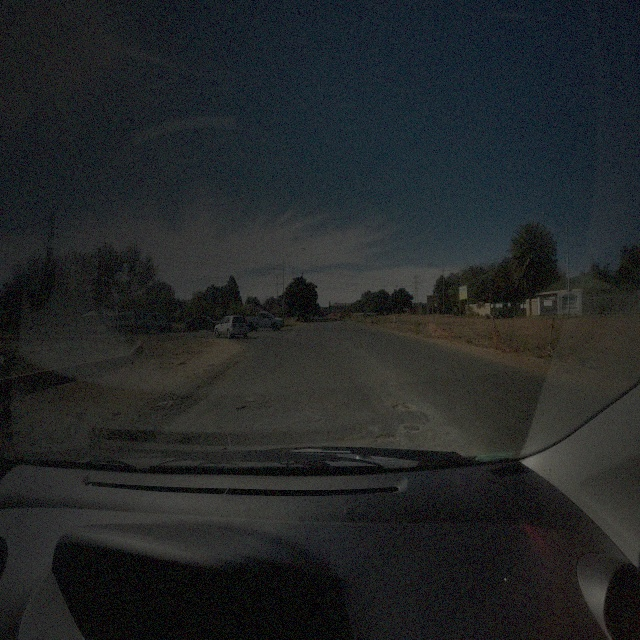pothole: (393, 399, 419, 413), (375, 433, 399, 443)
